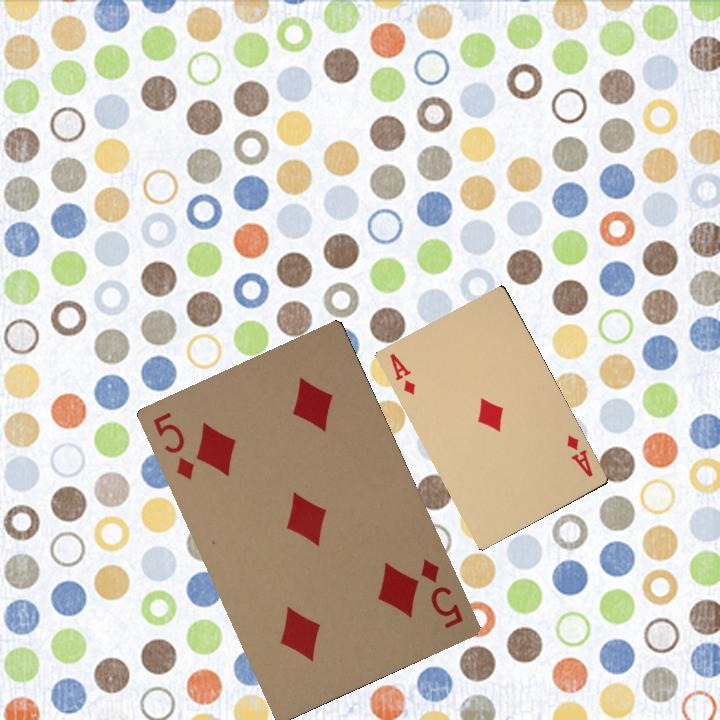5d: (416, 555, 466, 631), (148, 408, 197, 483)
Ad: (562, 432, 595, 480), (385, 349, 418, 397)
